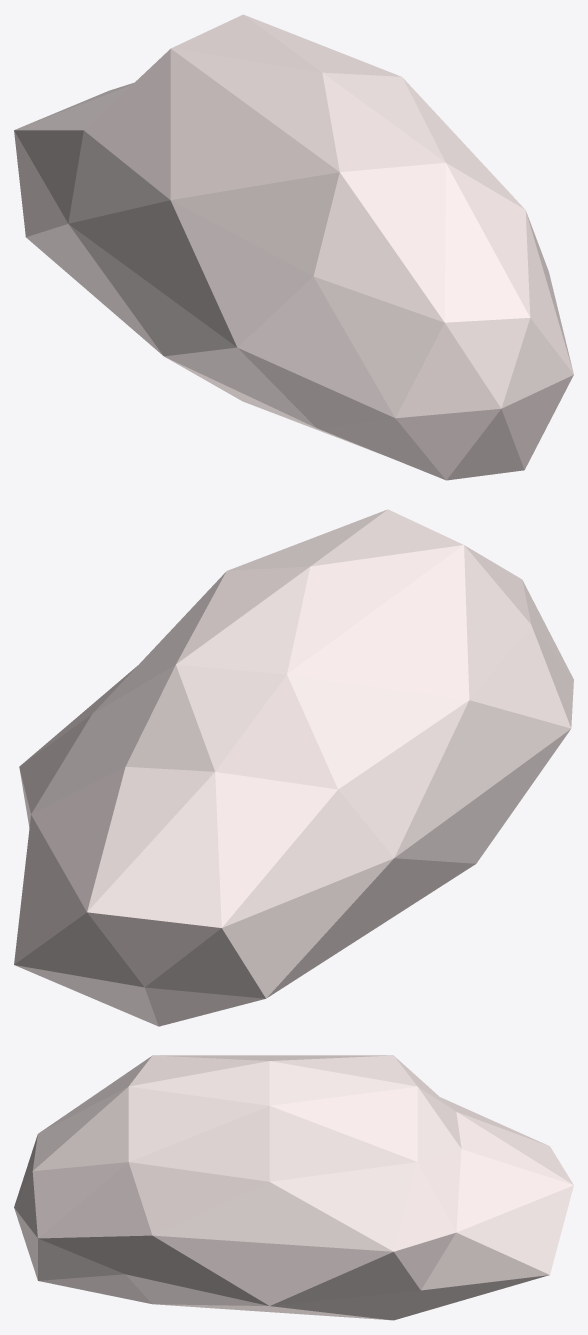
File: nube low poly.fbx
3 views of the same model, one above another, from view 1: azimuth 30°, elevation 25°; view 2: azimuth 150°, elevation 25°; view 3: azimuth 270°, elevation 25° (orthographic). The views are drawn at different scales.
Visible parts, largest first — view 1: Esfera geodésica; view 2: Esfera geodésica; view 3: Esfera geodésica.
Boxes of the visible parts, left/top/right/bottom form: Esfera geodésica: left=14, top=14, right=573, bottom=480; Esfera geodésica: left=14, top=509, right=573, bottom=1026; Esfera geodésica: left=14, top=1055, right=573, bottom=1320.
Size of the model in its own units: 236 by 210 by 447.
